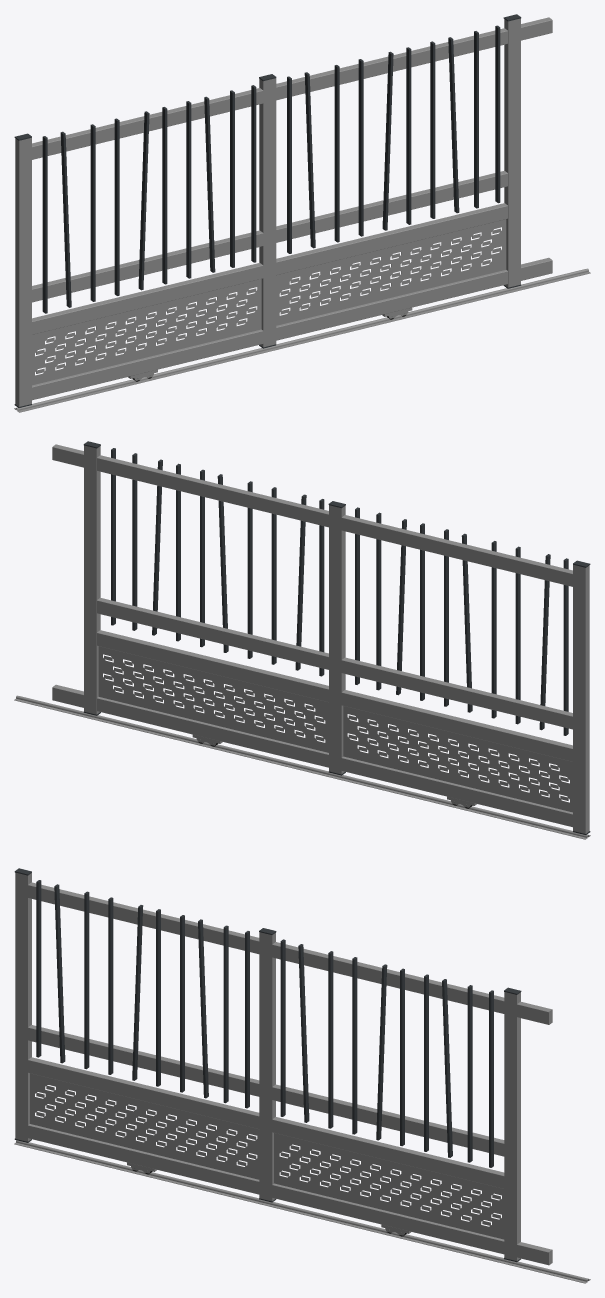
3 renders of one model, top to bottom at view 1: azimuth 30°, elevation 25°; view 2: azimuth 150°, elevation 25°; view 3: azimuth 330°, elevation 25°, orthographic.
Visible parts, largest first — view 1: zero, zero001, Shape107411718, Shape163, Shape164, Shape107411722, Pilar, Pilar004, Pilar001, Rail, Box2411, Box2415 (+18 smaller); view 2: zero, zero001, Shape164, Shape107411722, Shape107411718, Shape163, Pilar, Pilar001, Pilar004, Rail, Box2408, Box2409 (+18 smaller); view 3: zero, zero001, Shape107411718, Shape163, Shape164, Shape107411722, Pilar001, Pilar004, Pilar, Rail, Box123, Box2409 (+18 smaller).
Part boxes in pixels (<box>): zero: <box>276,219,506,325</box>; zero001: <box>32,279,261,385</box>; Shape107411718: <box>32,203,507,334</box>; Shape163: <box>32,257,552,400</box>; Shape164: <box>32,17,552,159</box>; Shape107411722: <box>32,170,507,302</box>; Pilar: <box>15,137,31,406</box>; Pilar004: <box>259,78,276,347</box>; Pilar001: <box>504,18,520,287</box>; Rail: <box>14,268,590,412</box>; Box2411: <box>406,47,411,224</box>; Box2415: <box>495,25,500,203</box>; zero: <box>98,646,328,752</box>; zero001: <box>343,706,572,812</box>; Shape164: <box>52,444,572,586</box>; Shape107411722: <box>97,598,572,729</box>; Shape107411718: <box>97,630,572,761</box>; Shape163: <box>52,684,572,827</box>; Pilar: <box>573,564,589,833</box>; Pilar001: <box>84,445,100,714</box>; Pilar004: <box>329,505,345,774</box>; Rail: <box>14,695,590,839</box>; Box2408: <box>271,487,276,664</box>; Box2409: <box>247,481,252,658</box>; zero: <box>274,1133,504,1239</box>; zero001: <box>30,1073,259,1179</box>; Shape107411718: <box>28,1057,504,1188</box>; Shape163: <box>28,1124,552,1265</box>; Shape164: <box>28,882,552,1024</box>; Shape107411722: <box>28,1025,504,1156</box>; Pilar001: <box>504,992,520,1260</box>; Pilar004: <box>259,932,275,1201</box>; Pilar: <box>15,872,31,1141</box>; Rail: <box>14,1140,590,1283</box>; Box123: <box>223,925,228,1103</box>; Box2409: <box>352,957,357,1134</box>.
Size of the model in its own units: 3600 by 1640 by 79.57.
5 materials, 2 textured.
